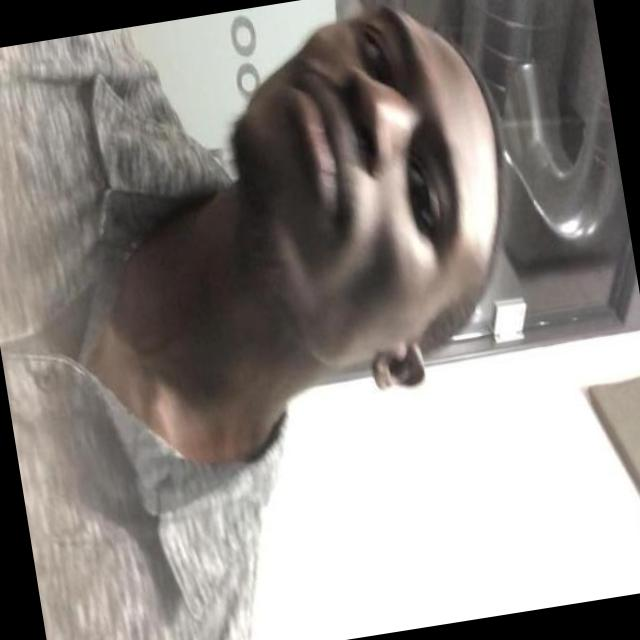bareface: (213, 4, 526, 368)
